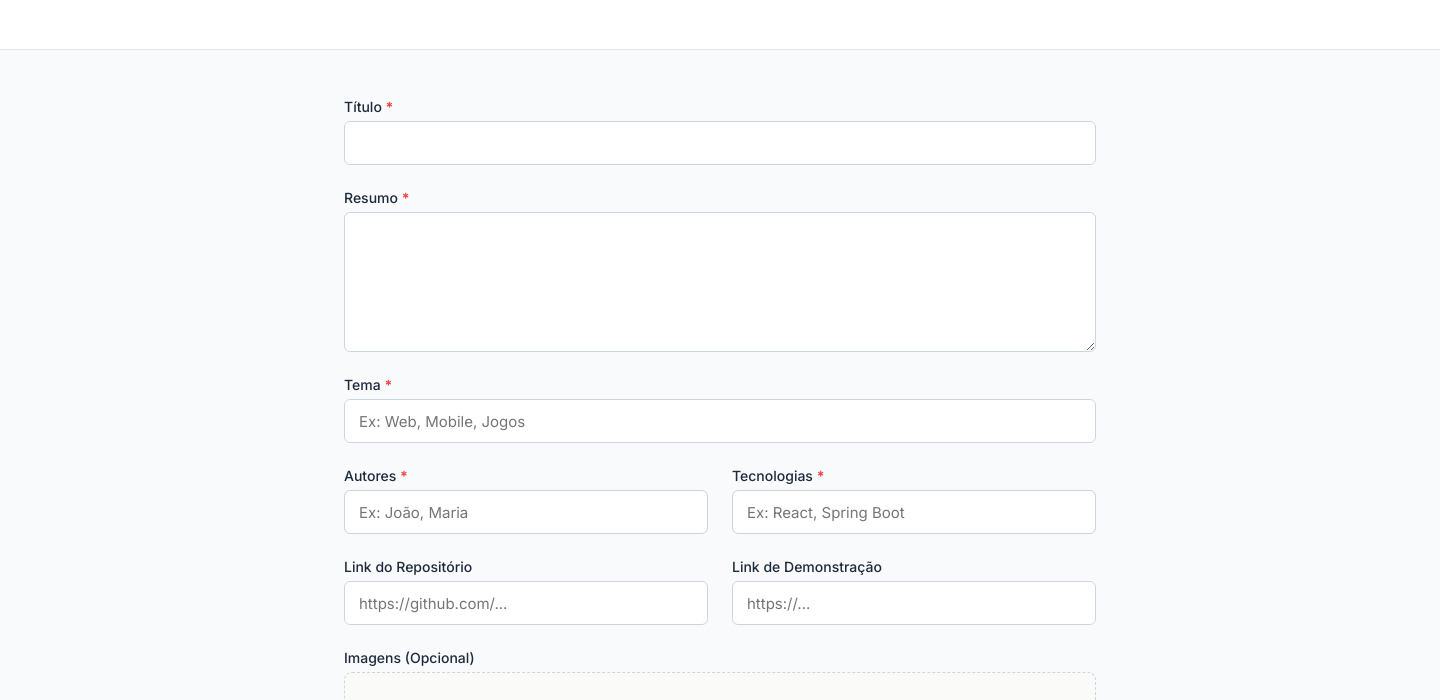
Test: Submissão de projeto › informa a falha de conexão e permite tentar novamente
Type "Projeto Teste" into the field labelled "Título *" at (720,143), box [344, 121, 1096, 165]
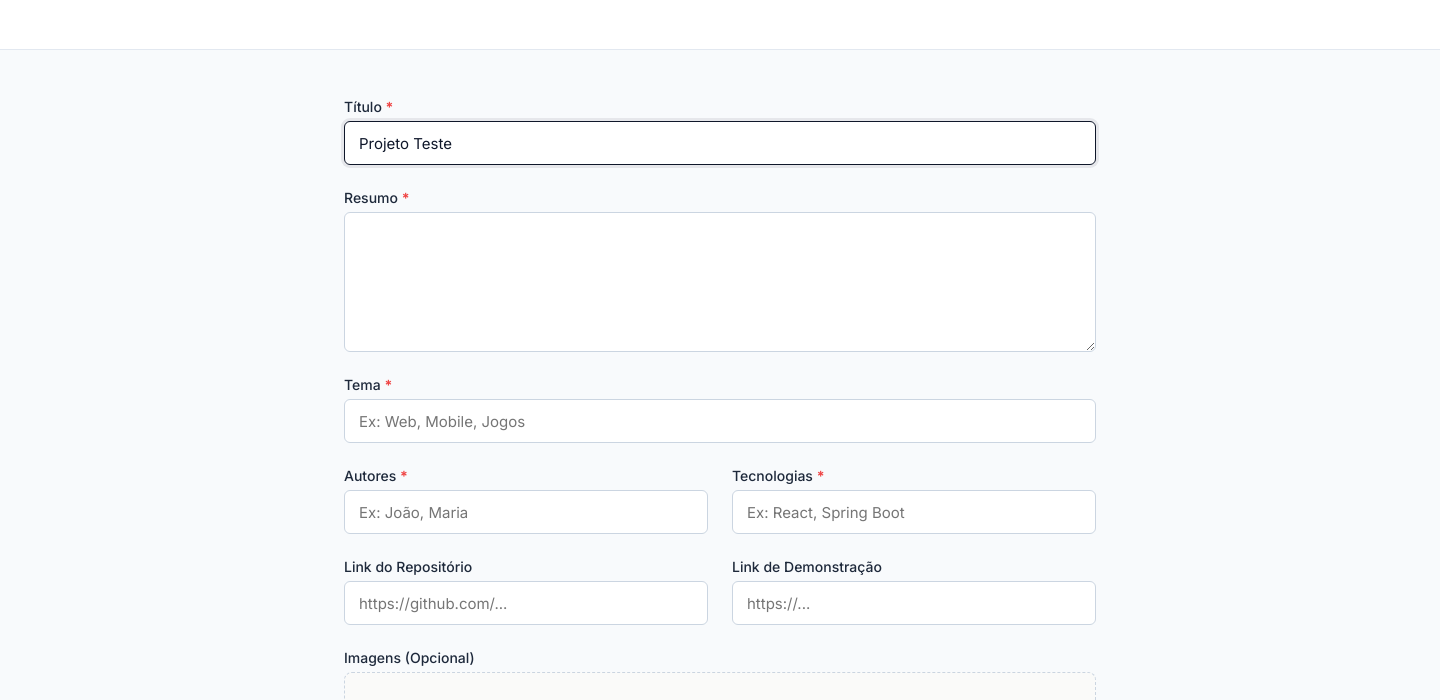
Type "Resumo do projeto" into the text box labelled "Resumo *" at (720,282), box [344, 212, 1096, 352]
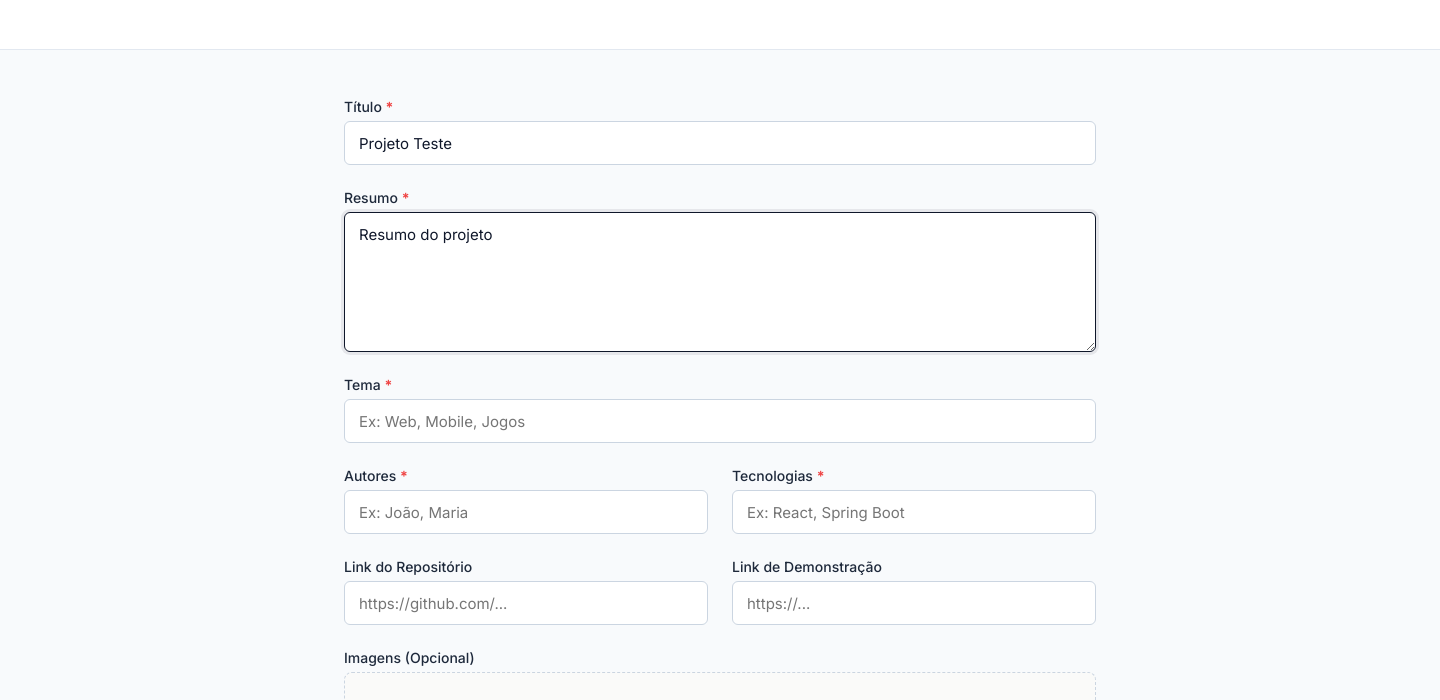
Type "Web" into the field labelled "Tema *" at (720,421), box [344, 399, 1096, 443]
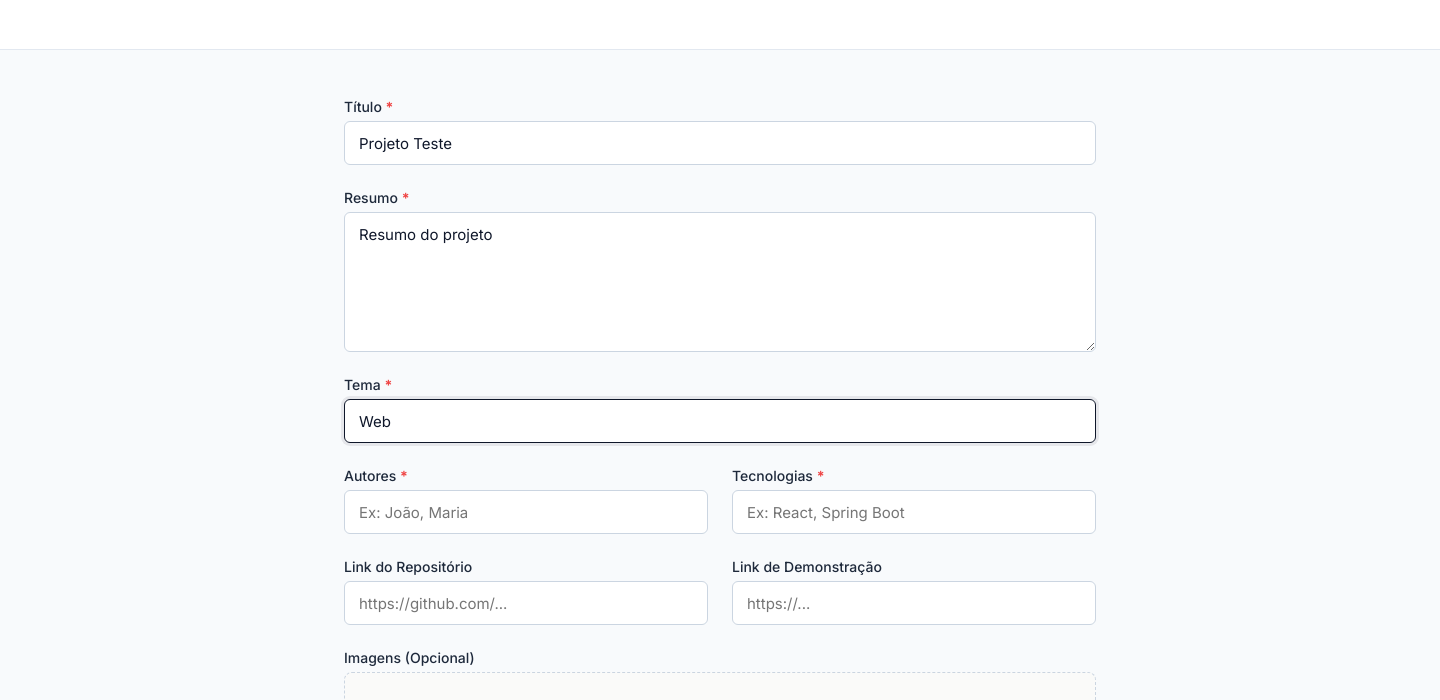
Type "Ana Lima, Bruno Reis" into the field labelled "Autores *" at (526,512), box [344, 490, 708, 534]
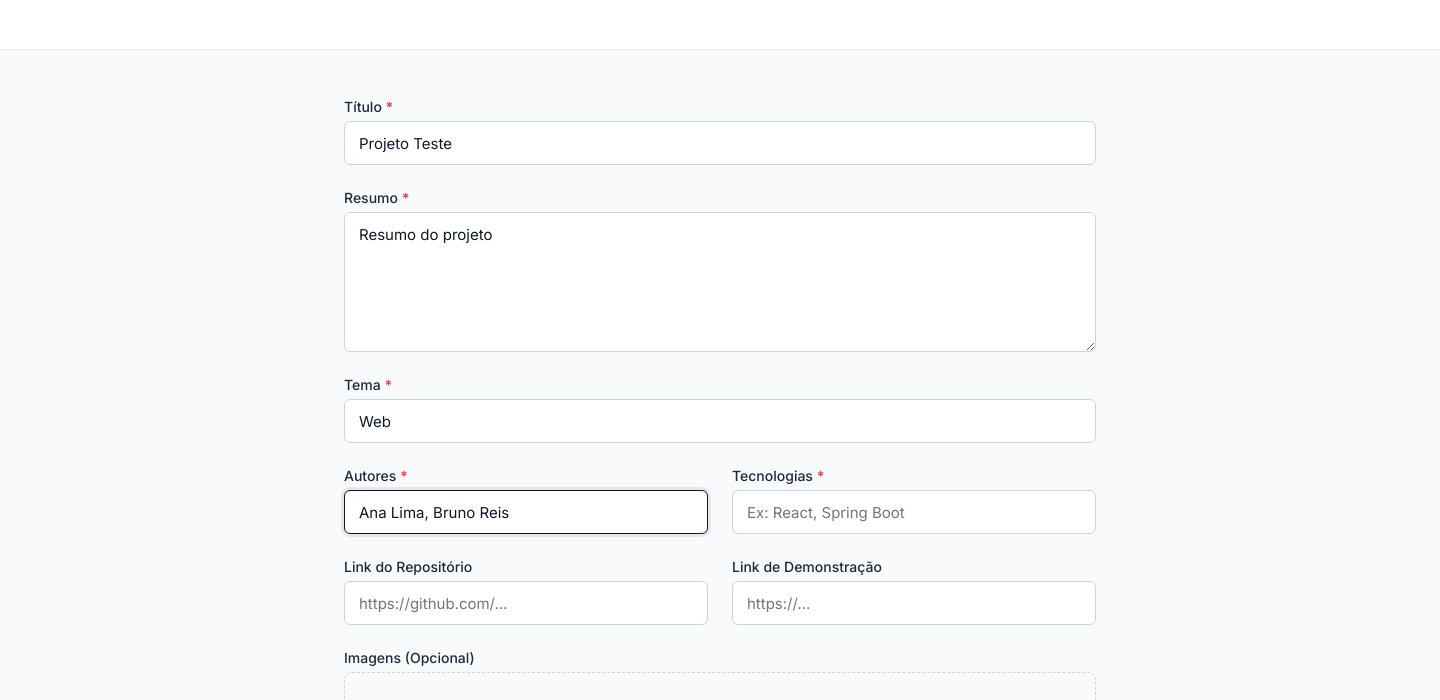
Type "React, Spring Boot" into the field labelled "Tecnologias *" at (914,512), box [732, 490, 1096, 534]
(page scrolled)
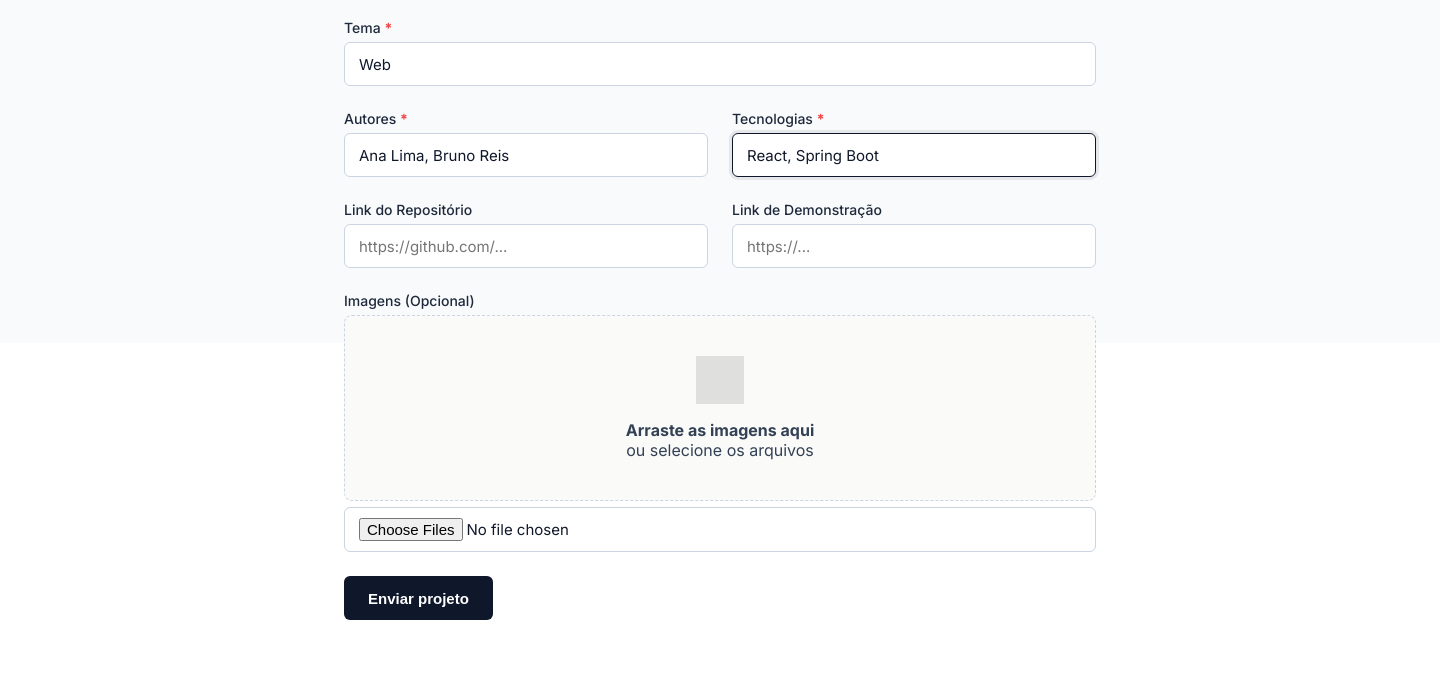
Click the button "Enviar projeto" at (418,598), box [344, 576, 493, 620]
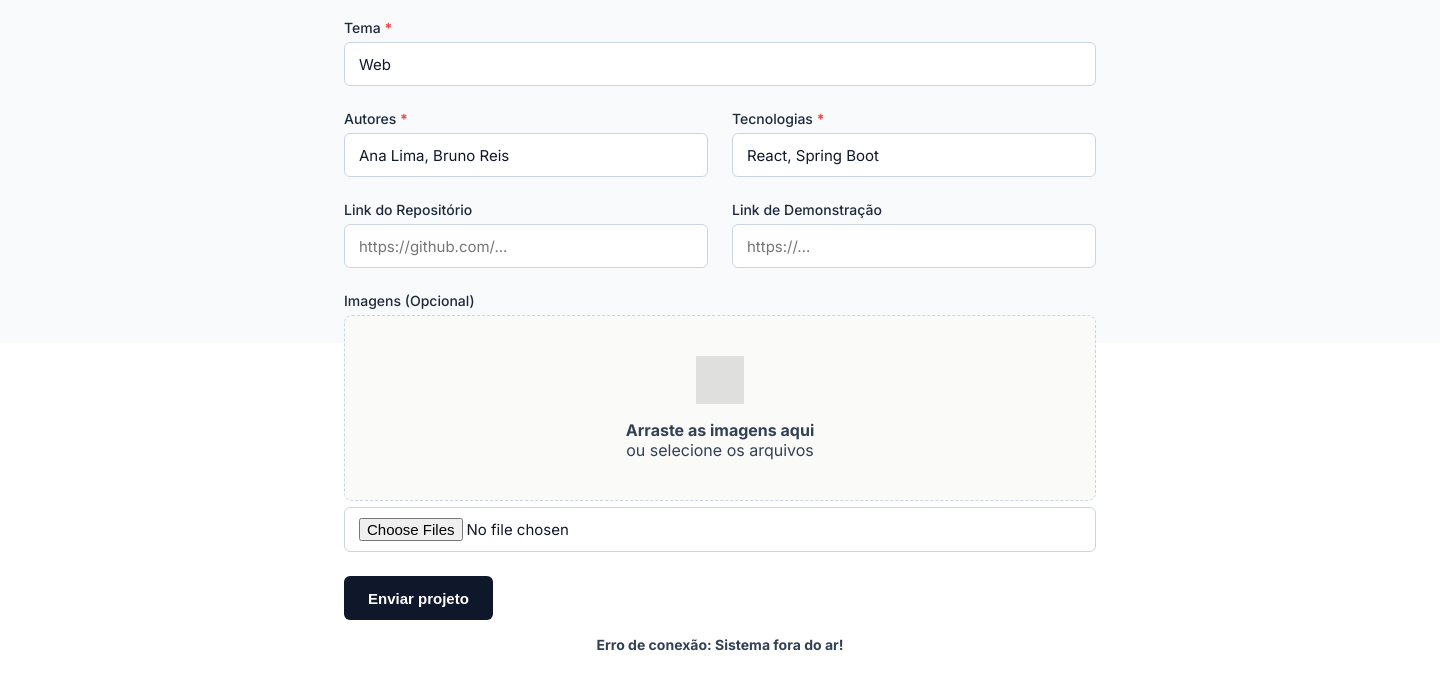
Check: the text "Erro de conexão: Sistema fora do ar!" is shown, box [596, 636, 843, 653]
